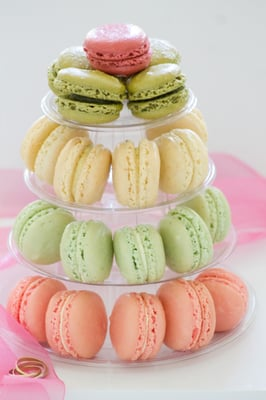pasta: (153, 129, 211, 196), (112, 138, 160, 209), (20, 114, 60, 171)
